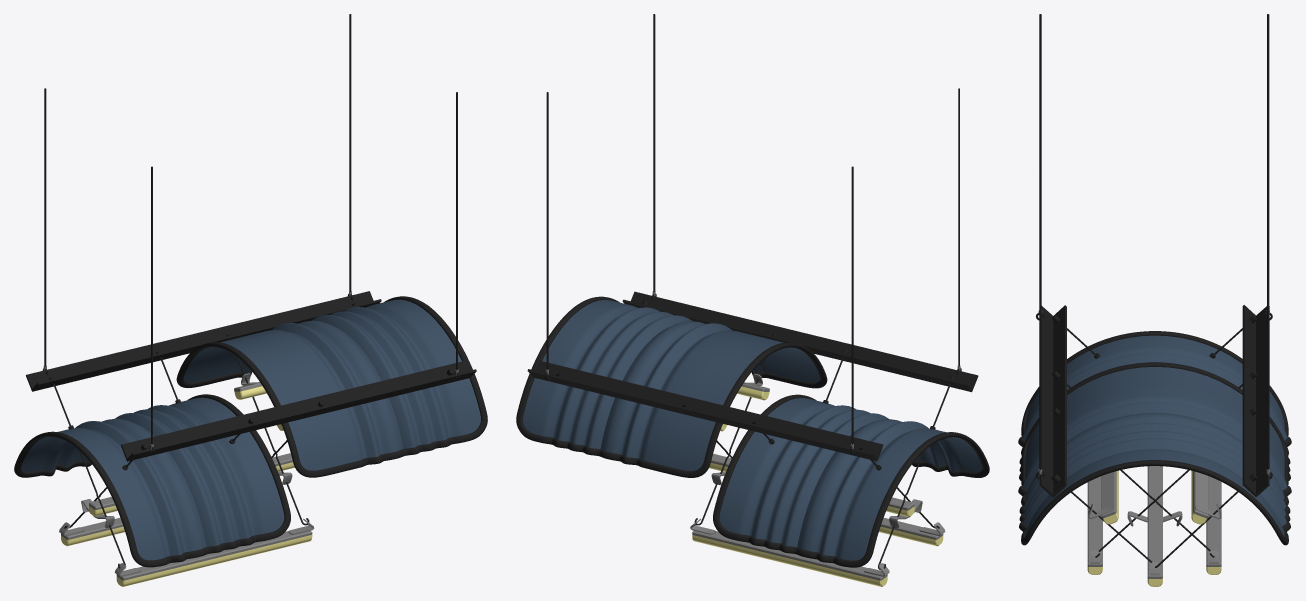
File: Barrel Light.fbx
3 renders of one model, left to right at view 1: azimuth 30°, elevation 25°; view 2: azimuth 150°, elevation 25°; view 3: azimuth 270°, elevation 25°, orthographic. The views are drawn at different scales.
Visible parts, largest first — view 1: Cable; view 2: Cable; view 3: Cable.
Part boxes in pixels (box(x1,y1,x2,y2)): Cable: box(14, 14, 487, 586); Cable: box(516, 14, 989, 586); Cable: box(1018, 14, 1291, 586).
Bounding box in the file's own units: 68.35 × 80.02 × 42.58.
